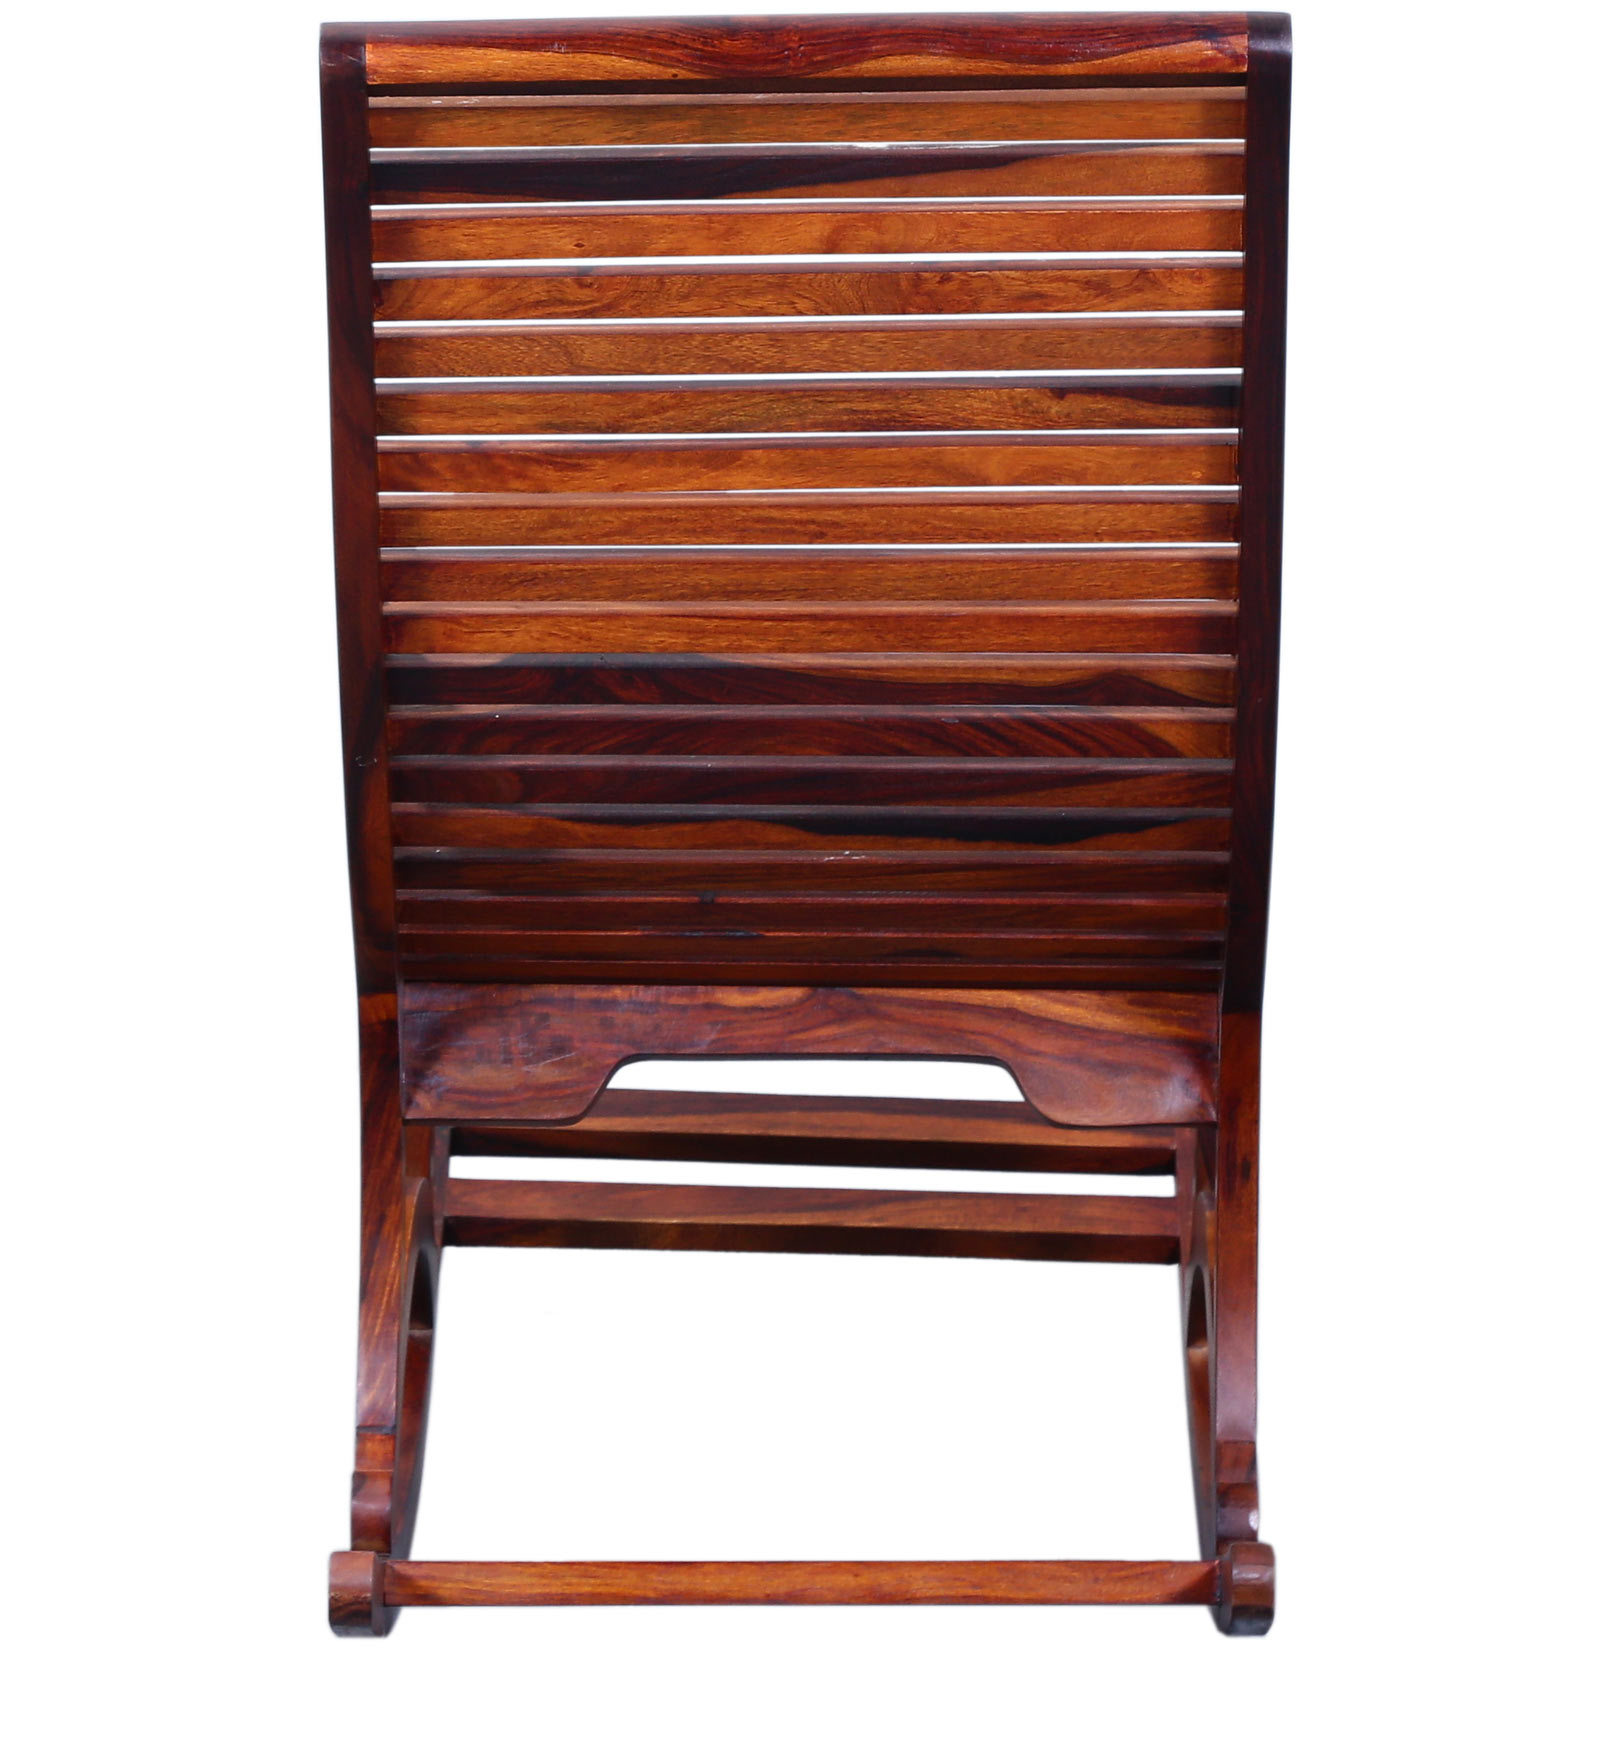Wellesley Rocking Chair in Honey Oak Finish by Amberville: (264, 17, 1362, 1680)
